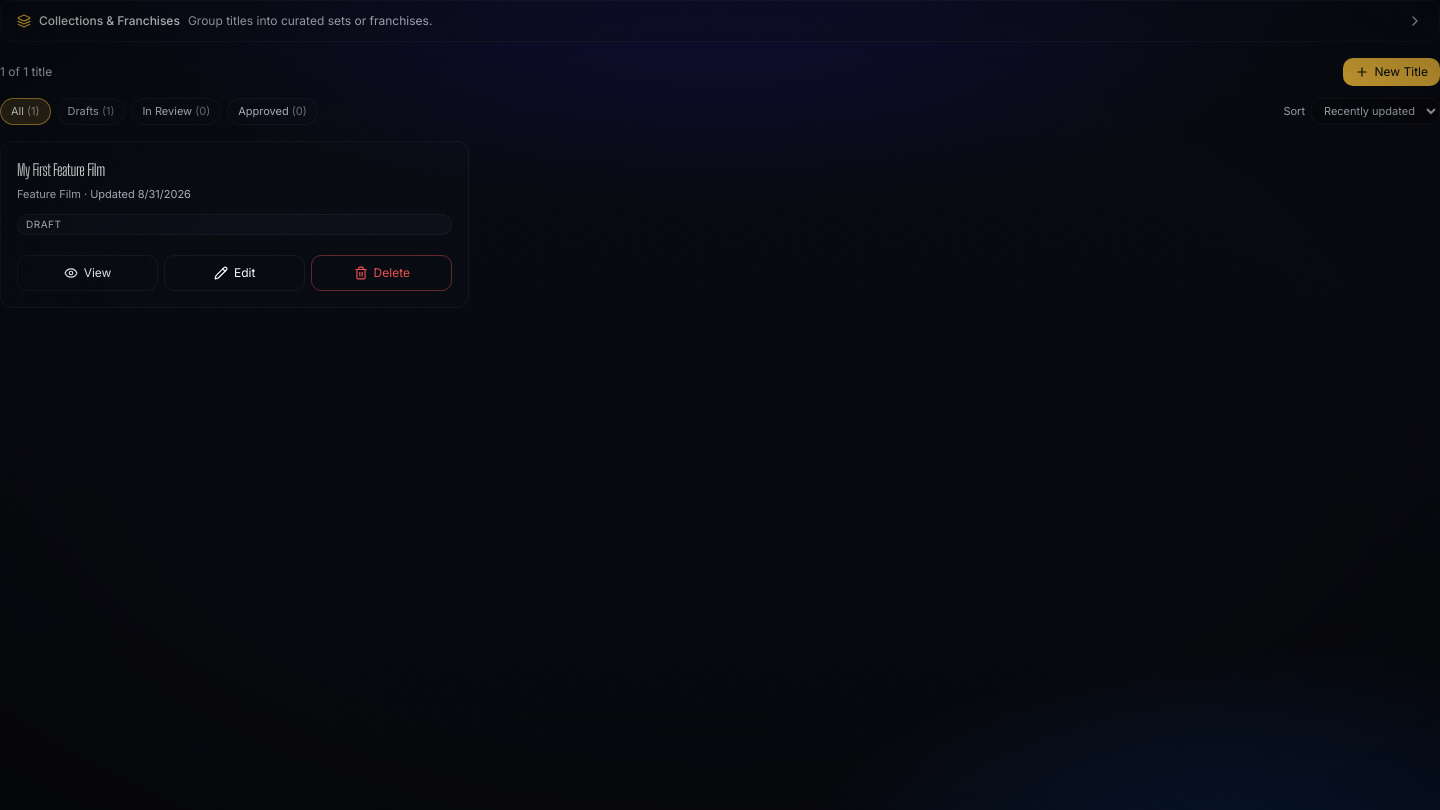
Stop 6 — Submit title to Admin › clicking Edit opens TitleEditor for that title
The image size is (1440, 810).
What coordinates should you click on to do the following:
click the button "edit "
I would click on:
 (235, 273)
Its box is [164,255,305,291].
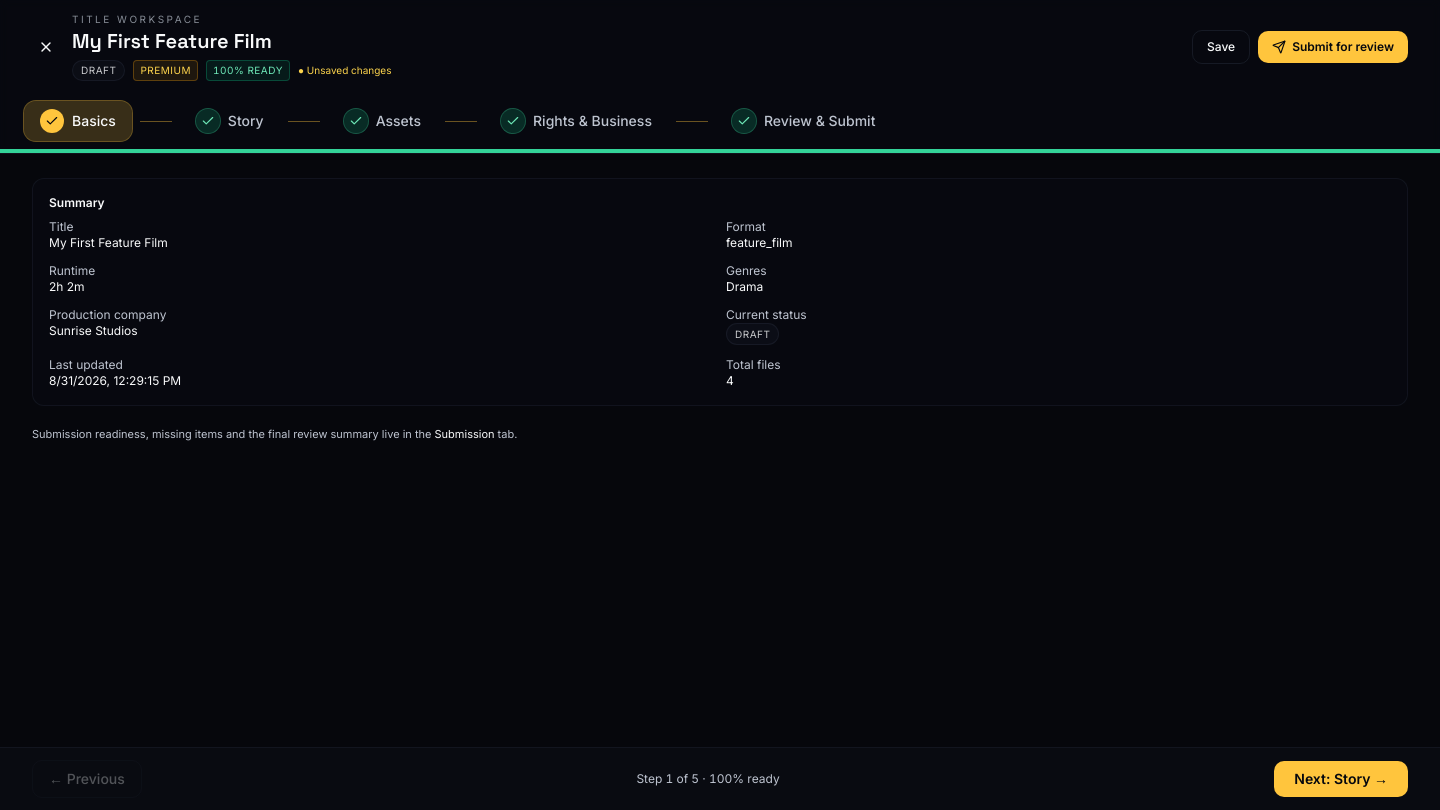
Expected: the element with test id "title-editor" is shown
